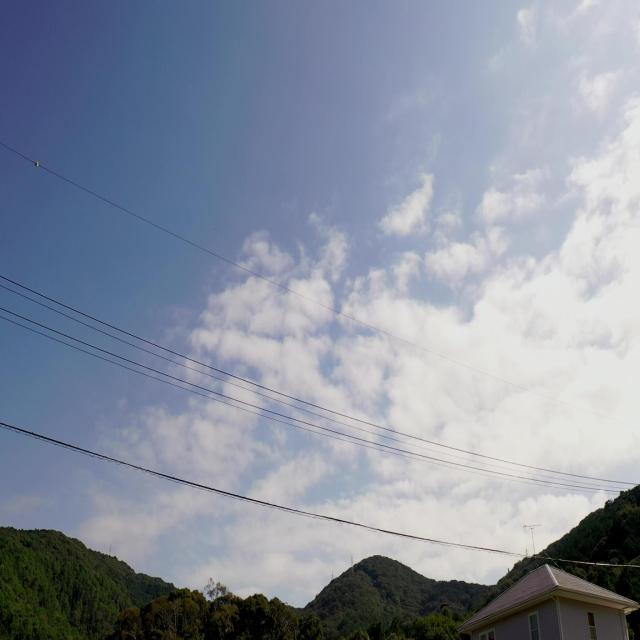Birds: (436, 592, 459, 616)
